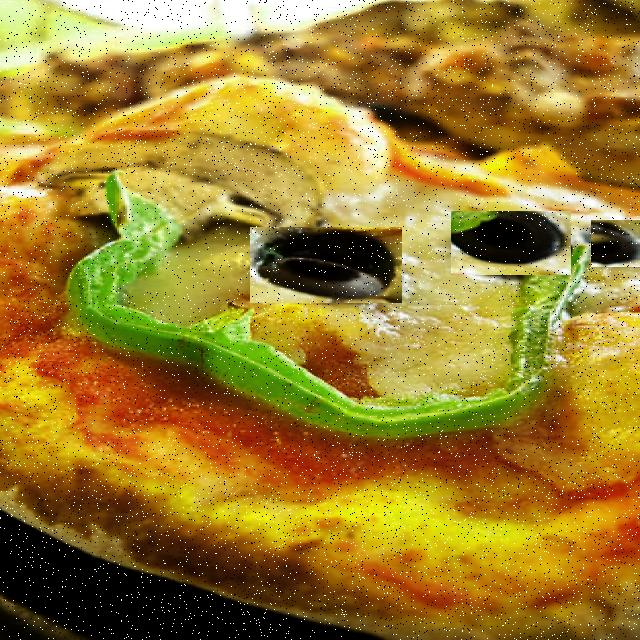Green Pepper: (54, 173, 575, 442)
Mushrooms: (64, 128, 328, 239)
Olives: (250, 227, 402, 303), (451, 212, 571, 276), (591, 220, 640, 267)
Pizza: (0, 0, 640, 640)
